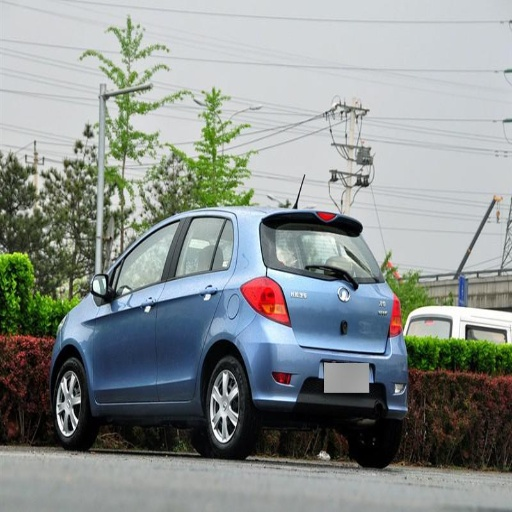back_bumper: (238, 316, 409, 413)
back_glass: (262, 216, 377, 279)
back_left_door: (157, 215, 230, 400)
trunk: (284, 276, 393, 353)
